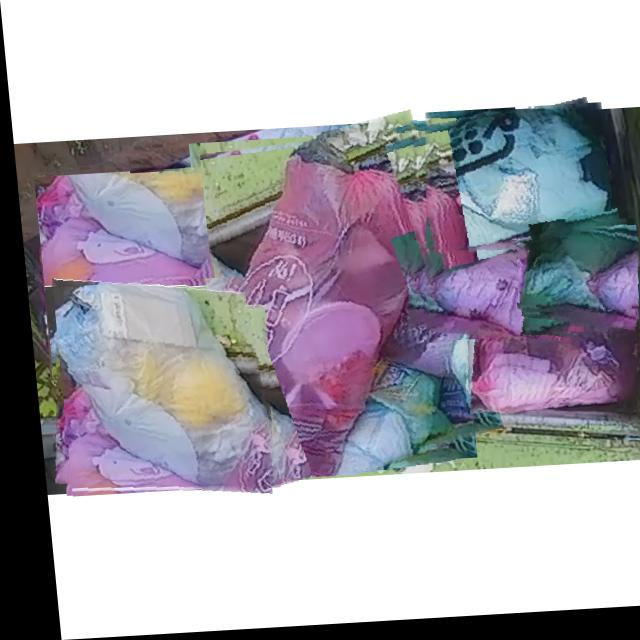general_trashbag: (420, 112, 605, 257), (511, 230, 632, 318)
other_trashbag: (212, 141, 422, 480), (49, 284, 259, 490), (32, 177, 220, 378), (460, 319, 632, 418), (417, 251, 565, 342)
